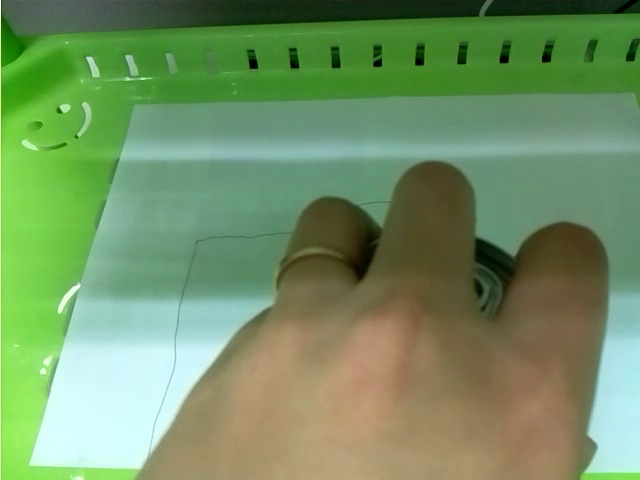hand: (116, 162, 609, 480)
